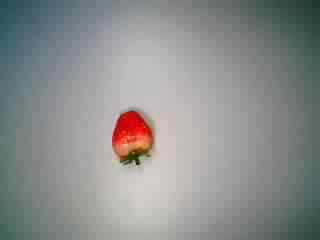strawberry: (95, 106, 168, 173)
